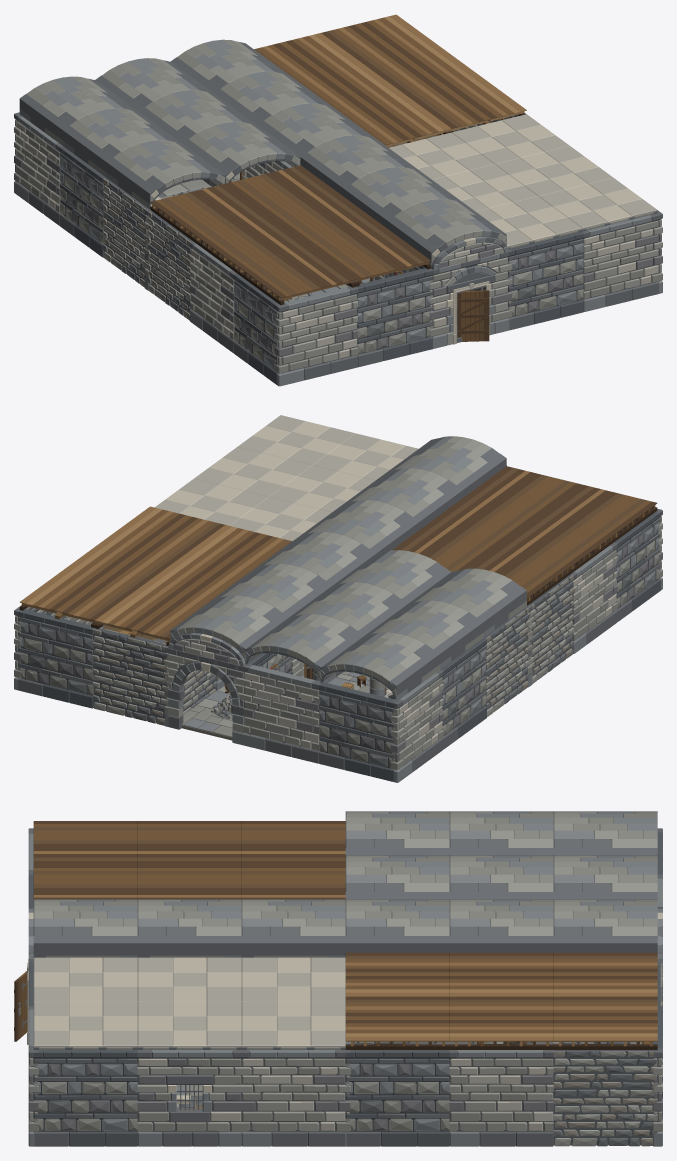
The model's file is SM_LPD_Room_floorfree.fbx.
3 views of the same model, one above another, from view 1: azimuth 30°, elevation 25°; view 2: azimuth 150°, elevation 25°; view 3: azimuth 270°, elevation 25° (orthographic). The views are drawn at different scales.
Visible parts, largest first — view 1: SM_LPD_Struct_WallAshlar_01.001, SM_LPD_Struct_WallAshlar_01.005, SM_LPD_Struct_WallCoursed_01.001, SM_LPD_Struct_WallCoursed_01.004, SM_LPD_Struct_CeilVault_01.007, SM_LPD_Struct_CeilVault_01.001, SM_LPD_Struct_WallDoorway_01.001, SM_LPD_Struct_CeilVault_01.009, SM_LPD_Struct_CeilVault_01.011, SM_LPD_Struct_CeilVault_01.008, SM_LPD_Struct_CeilTimberJoisted_01.001, SM_LPD_Struct_WallAshlar_01.010 (+32 smaller); view 2: SM_LPD_Struct_WallAshlar_01.009, SM_LPD_Struct_WallCoursed_01.007, SM_LPD_Struct_WallCoursed_01.010, SM_LPD_Struct_WallRubble_01.003, SM_LPD_Struct_CeilVault_01.011, SM_LPD_Struct_CeilVault_01.007, SM_LPD_Struct_CeilVault_01.009, SM_LPD_Struct_CeilVault_01.012, SM_LPD_Struct_CeilVault_01.006, SM_LPD_Struct_WallAshlar_01.002, SM_LPD_Struct_WallCoursed_01.008, SM_LPD_Struct_WallAshlar_01.010 (+34 smaller); view 3: SM_LPD_Struct_WallAshlar_01.013, SM_LPD_Struct_WallAshlar_01.006, SM_LPD_Struct_WallCoursed_01.005, SM_LPD_Struct_WallCoursed_01.011, SM_LPD_Struct_WallRubble_01.004, SM_LPD_Struct_WallBarred_01.001, SM_LPD_Struct_CeilVault_01.001, SM_LPD_Struct_CeilVault_01.002, SM_LPD_Struct_CeilVault_01.003, SM_LPD_Struct_CeilVault_01.004, SM_LPD_Struct_CeilVault_01.005, SM_LPD_Struct_CeilVault_01.006 (+27 smaller).
Boxes of the visible parts, bbox=[...] form: SM_LPD_Struct_WallAshlar_01.001: bbox=[282, 286, 357, 385]; SM_LPD_Struct_WallAshlar_01.005: bbox=[582, 214, 659, 311]; SM_LPD_Struct_WallCoursed_01.001: bbox=[356, 268, 433, 367]; SM_LPD_Struct_WallCoursed_01.004: bbox=[508, 231, 584, 330]; SM_LPD_Struct_CeilVault_01.007: bbox=[106, 140, 225, 209]; SM_LPD_Struct_CeilVault_01.001: bbox=[388, 199, 506, 266]; SM_LPD_Struct_WallDoorway_01.001: bbox=[432, 252, 508, 348]; SM_LPD_Struct_CeilVault_01.009: bbox=[63, 108, 181, 177]; SM_LPD_Struct_CeilVault_01.011: bbox=[19, 76, 137, 145]; SM_LPD_Struct_CeilVault_01.008: bbox=[182, 122, 300, 183]; SM_LPD_Struct_CeilTimberJoisted_01.001: bbox=[237, 247, 355, 305]; SM_LPD_Struct_WallAshlar_01.010: bbox=[15, 114, 62, 225]; SM_LPD_Struct_WallAshlar_01.009: bbox=[243, 664, 320, 763]; SM_LPD_Struct_WallCoursed_01.007: bbox=[319, 682, 395, 781]; SM_LPD_Struct_WallCoursed_01.010: bbox=[17, 609, 94, 708]; SM_LPD_Struct_WallRubble_01.003: bbox=[93, 627, 168, 725]; SM_LPD_Struct_CeilVault_01.011: bbox=[321, 632, 439, 701]; SM_LPD_Struct_CeilVault_01.007: bbox=[408, 568, 526, 637]; SM_LPD_Struct_CeilVault_01.009: bbox=[365, 600, 483, 669]; SM_LPD_Struct_CeilVault_01.012: bbox=[245, 614, 363, 682]; SM_LPD_Struct_CeilVault_01.006: bbox=[170, 595, 288, 663]; SM_LPD_Struct_WallAshlar_01.002: bbox=[571, 542, 617, 653]; SM_LPD_Struct_WallCoursed_01.008: bbox=[440, 638, 486, 749]; SM_LPD_Struct_WallAshlar_01.010: bbox=[393, 670, 443, 780]; SM_LPD_Struct_WallAshlar_01.013: bbox=[449, 1050, 553, 1146]; SM_LPD_Struct_WallAshlar_01.006: bbox=[241, 1049, 345, 1146]; SM_LPD_Struct_WallCoursed_01.005: bbox=[33, 1049, 137, 1146]; SM_LPD_Struct_WallCoursed_01.011: bbox=[345, 1050, 449, 1146]; SM_LPD_Struct_WallRubble_01.004: bbox=[553, 1050, 657, 1146]; SM_LPD_Struct_WallBarred_01.001: bbox=[137, 1049, 241, 1146]; SM_LPD_Struct_CeilVault_01.001: bbox=[33, 899, 137, 957]; SM_LPD_Struct_CeilVault_01.002: bbox=[137, 899, 241, 957]; SM_LPD_Struct_CeilVault_01.003: bbox=[241, 899, 345, 957]; SM_LPD_Struct_CeilVault_01.004: bbox=[345, 899, 449, 952]; SM_LPD_Struct_CeilVault_01.005: bbox=[449, 899, 553, 952]; SM_LPD_Struct_CeilVault_01.006: bbox=[553, 899, 657, 952].
Bounding box in the file's own units: 20.4 × 5.34 × 24.96.
